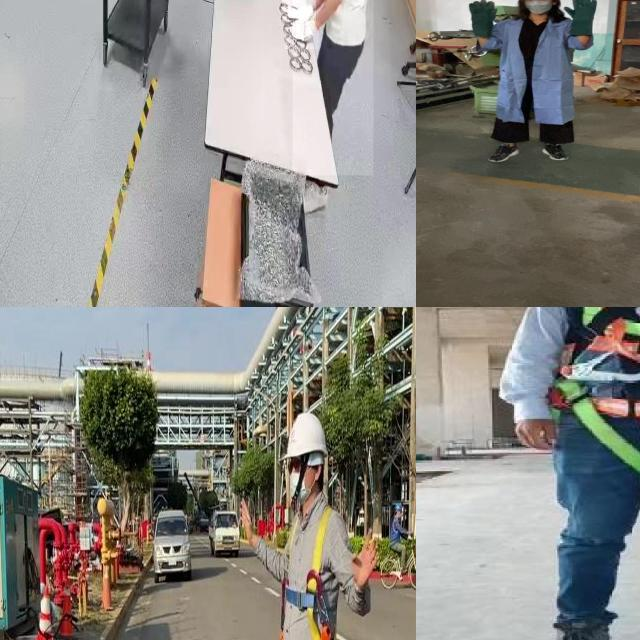Harness: (285, 507, 337, 640)
face_mask: (522, 0, 554, 13)
glasses: (522, 0, 553, 3)
hand_glove: (284, 22, 320, 50), (559, 0, 601, 22), (466, 0, 501, 26), (281, 0, 316, 22)
hand_noglove: (509, 415, 561, 455)
person: (495, 307, 640, 640), (463, 0, 601, 167), (292, 0, 373, 176)
shoes: (535, 603, 617, 640), (486, 143, 521, 166), (536, 140, 569, 162)
vest: (539, 307, 640, 424)
